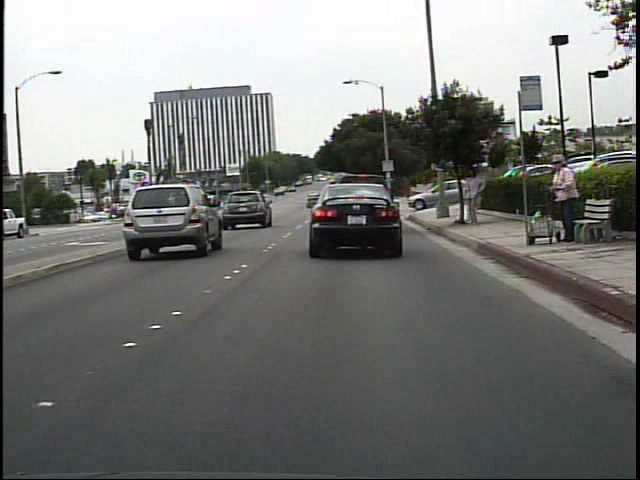person: (543, 150, 586, 249), (461, 162, 489, 227)
